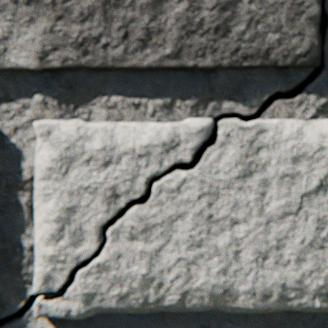brick: (0, 0, 321, 70)
broken_brick: (35, 119, 327, 317), (34, 118, 213, 292)
crack: (0, 0, 327, 327)
